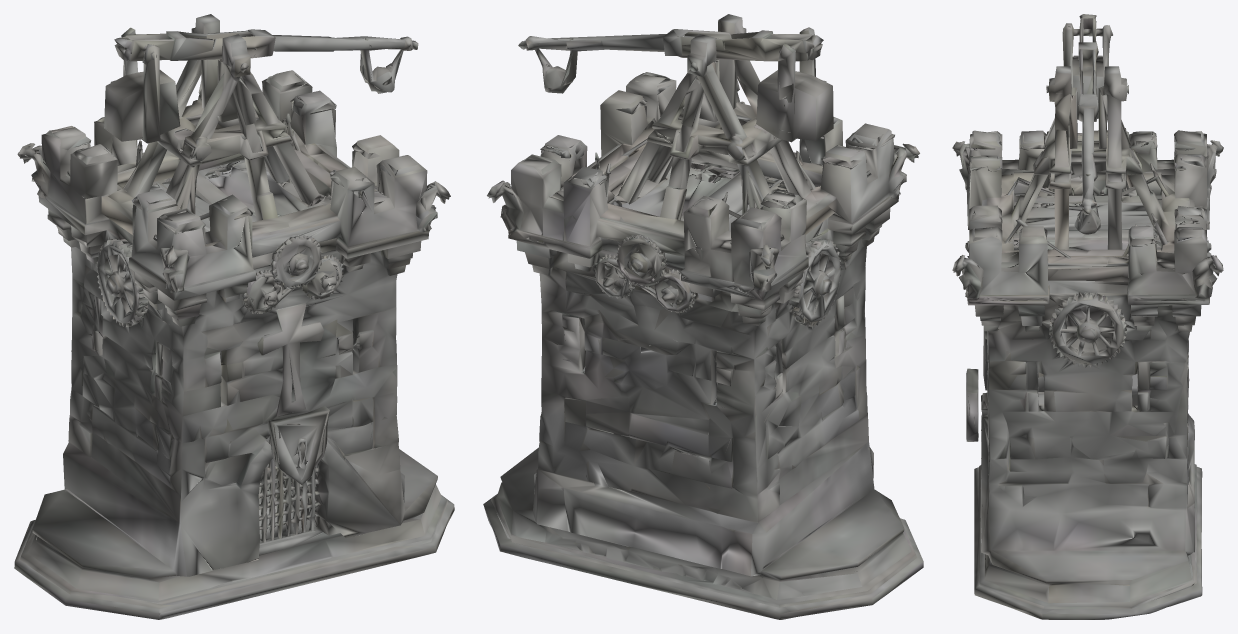
Rendered from rook_low.glb.
3 views of the same model, side by side, from view 1: azimuth 30°, elevation 25°; view 2: azimuth 150°, elevation 25°; view 3: azimuth 270°, elevation 25° (orthographic). The views are drawn at different scales.
Parts seen in each view (by area): view 1: geometry_0; view 2: geometry_0; view 3: geometry_0.
Part boxes in pixels (box(x1,y1,x2,y2)): geometry_0: box(14, 14, 454, 619); geometry_0: box(483, 14, 923, 619); geometry_0: box(952, 14, 1223, 619).
Size of the model in its own units: 0.7694 by 0.9999 by 0.5204.
Materials: 1 (1 with a texture image).
